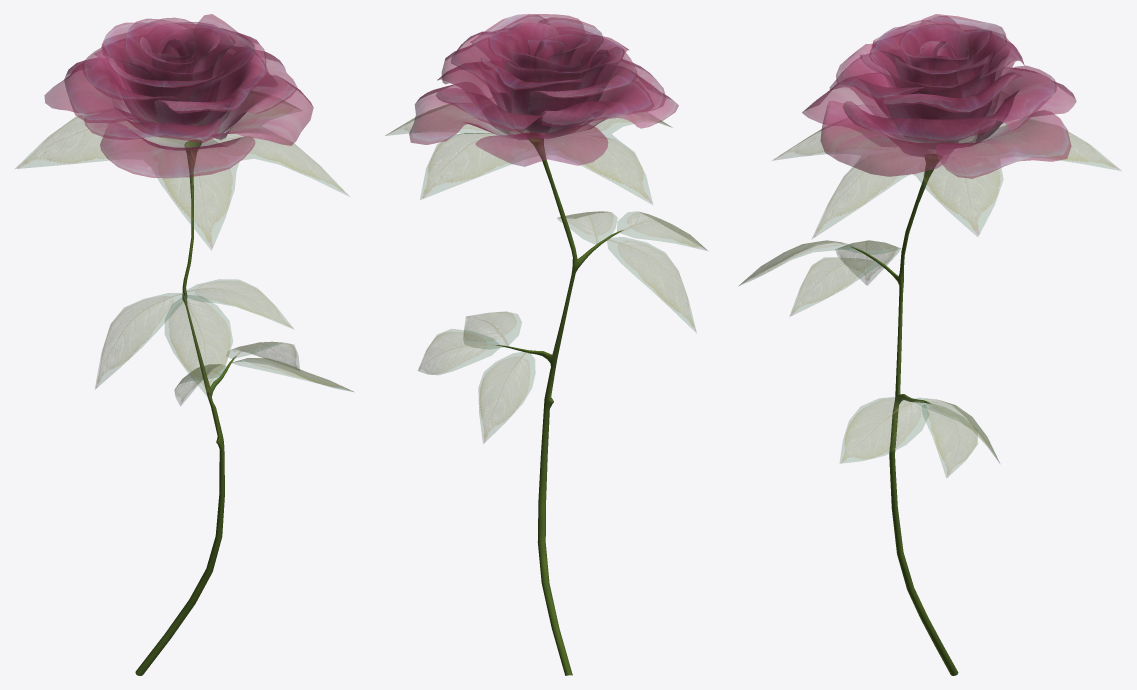
Rendered from preview.glb.
The picture shows the model from 3 angles, left to right: view 1: azimuth 30°, elevation 25°; view 2: azimuth 150°, elevation 25°; view 3: azimuth 270°, elevation 25°; orthographic projection. The views are drawn at different scales.
Parts seen in each view (by area): view 1: Flower_Rosa_gallica_A_Flower_glb, Flower_Rosa_gallica_A_Leaf_glb, Flower_Rosa_gallica_A_Stem_glb; view 2: Flower_Rosa_gallica_A_Flower_glb, Flower_Rosa_gallica_A_Leaf_glb, Flower_Rosa_gallica_A_Stem_glb; view 3: Flower_Rosa_gallica_A_Flower_glb, Flower_Rosa_gallica_A_Leaf_glb, Flower_Rosa_gallica_A_Stem_glb.
Boxes of the visible parts, bbox=[...] form: Flower_Rosa_gallica_A_Flower_glb: bbox=[44, 14, 313, 178]; Flower_Rosa_gallica_A_Leaf_glb: bbox=[15, 93, 353, 405]; Flower_Rosa_gallica_A_Stem_glb: bbox=[135, 139, 236, 675]; Flower_Rosa_gallica_A_Flower_glb: bbox=[409, 14, 678, 166]; Flower_Rosa_gallica_A_Leaf_glb: bbox=[385, 104, 707, 443]; Flower_Rosa_gallica_A_Stem_glb: bbox=[496, 137, 623, 675]; Flower_Rosa_gallica_A_Flower_glb: bbox=[802, 14, 1076, 178]; Flower_Rosa_gallica_A_Leaf_glb: bbox=[739, 120, 1121, 477]; Flower_Rosa_gallica_A_Stem_glb: bbox=[851, 154, 958, 675].
Bounding box in the file's own units: 0.1984 × 0.4295 × 0.2301.
Materials: 3 (3 with a texture image).
